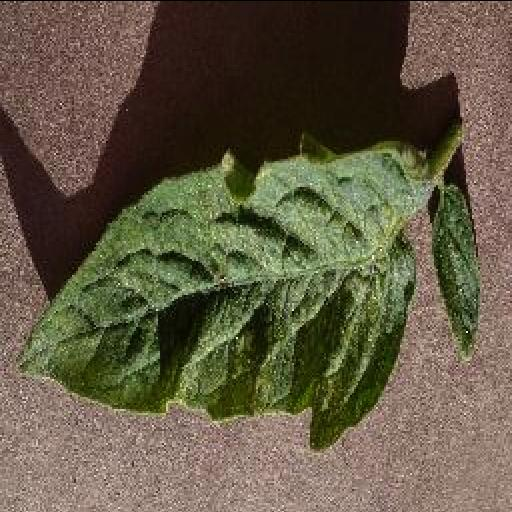disease_tomato: (16, 136, 426, 452)
